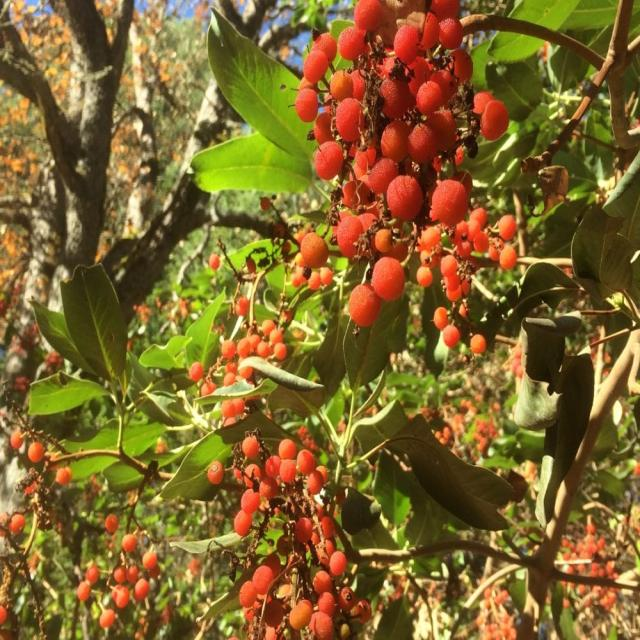Arbutus menziesii: (191, 0, 525, 335)
